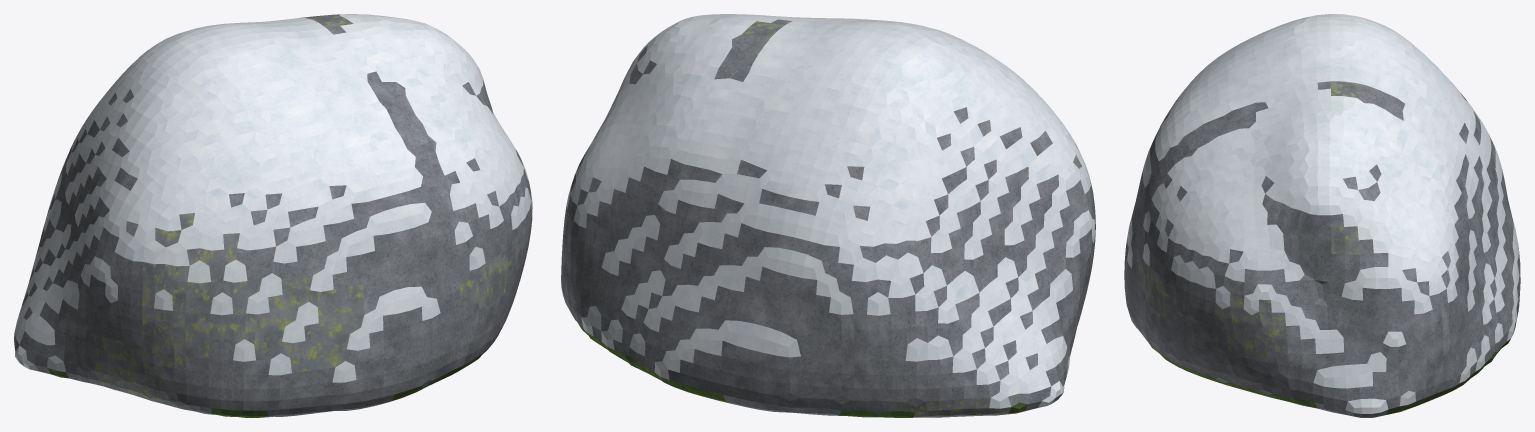
Rendered from rock_large_snow.glb.
3 views of the same model, side by side, from view 1: azimuth 30°, elevation 25°; view 2: azimuth 150°, elevation 25°; view 3: azimuth 270°, elevation 25° (orthographic). The views are drawn at different scales.
Parts seen in each view (by area): view 1: wilds_rock_large_snow; view 2: wilds_rock_large_snow; view 3: wilds_rock_large_snow.
Part boxes in pixels (x1,y1,x2,y2): wilds_rock_large_snow: (14, 14, 532, 417); wilds_rock_large_snow: (561, 14, 1095, 417); wilds_rock_large_snow: (1124, 14, 1520, 417).
Bounding box in the file's own units: 2.1 × 1.3 × 1.68.
Materials: 1 (1 with a texture image).
